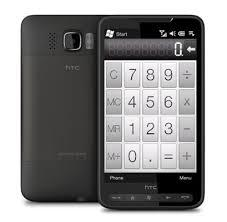Calculator: (103, 41, 199, 178)
